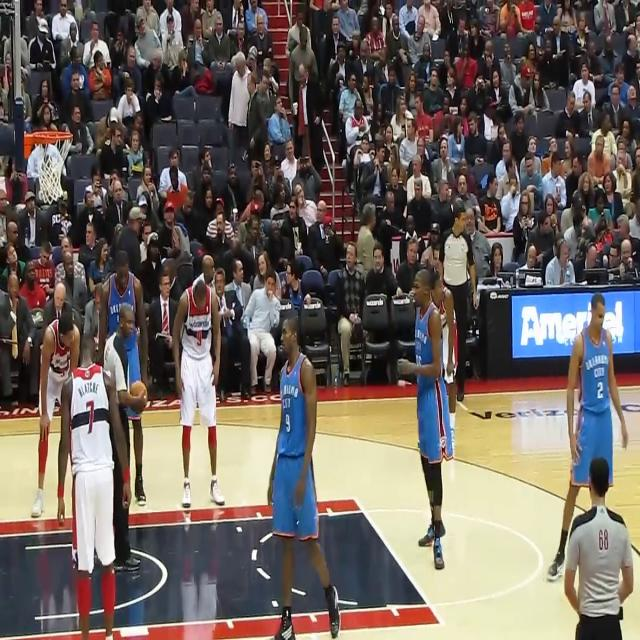ball: (129, 381, 147, 411)
